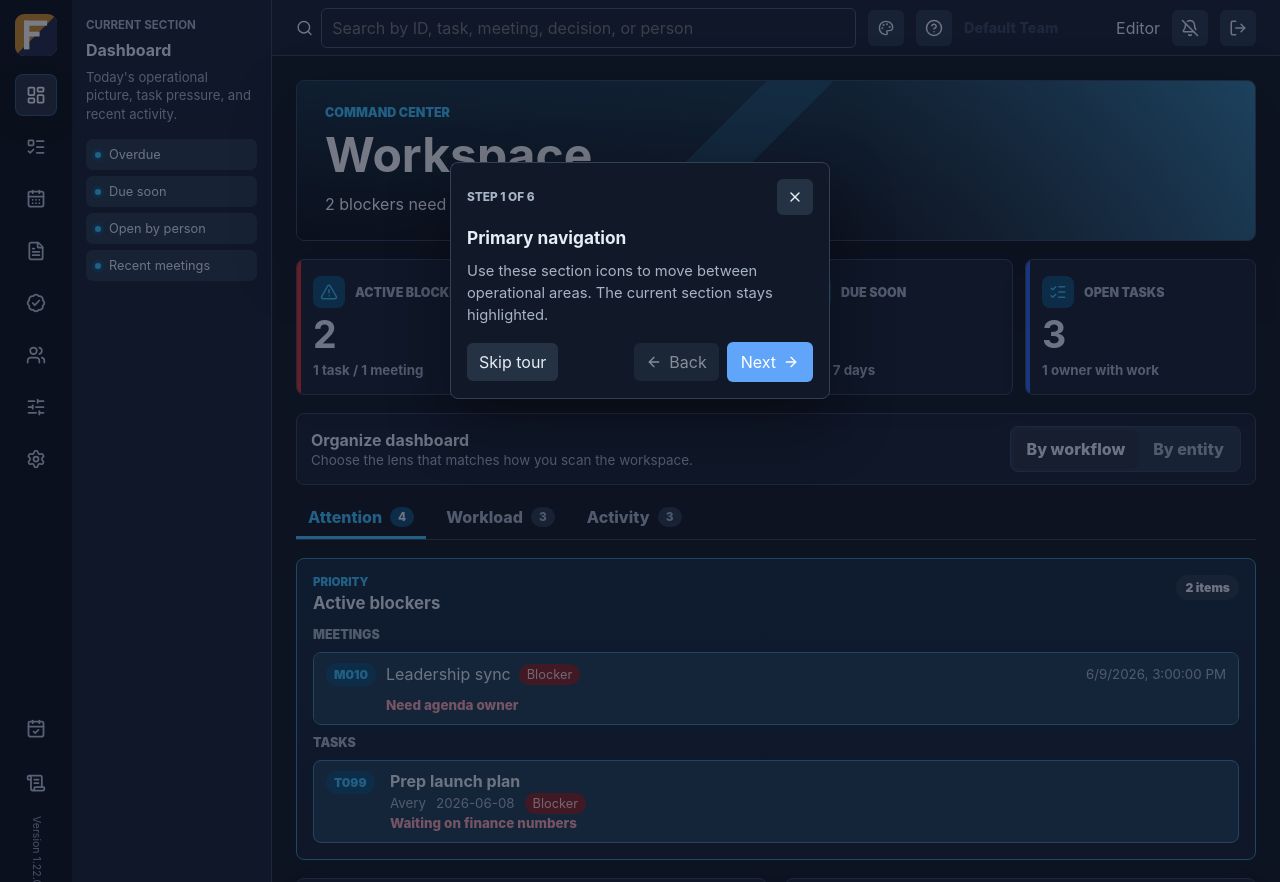
dashboard and workspace flows › persists the dashboard organization and exposes entity tabs
Click the button "By entity": x=1189, y=449 [1141,431,1236,467]
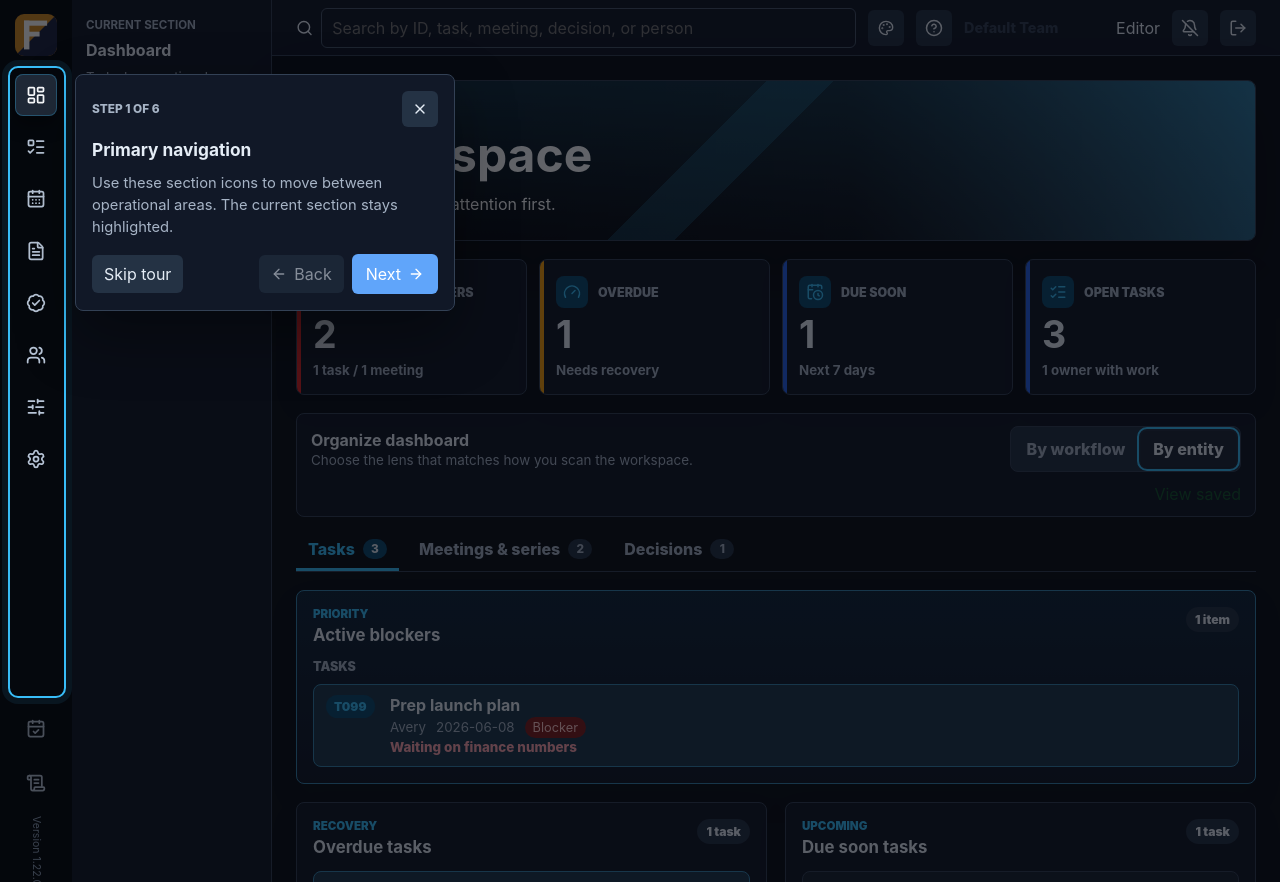
Click the button "Meetings & series 2": x=506, y=550 [407,529,604,571]
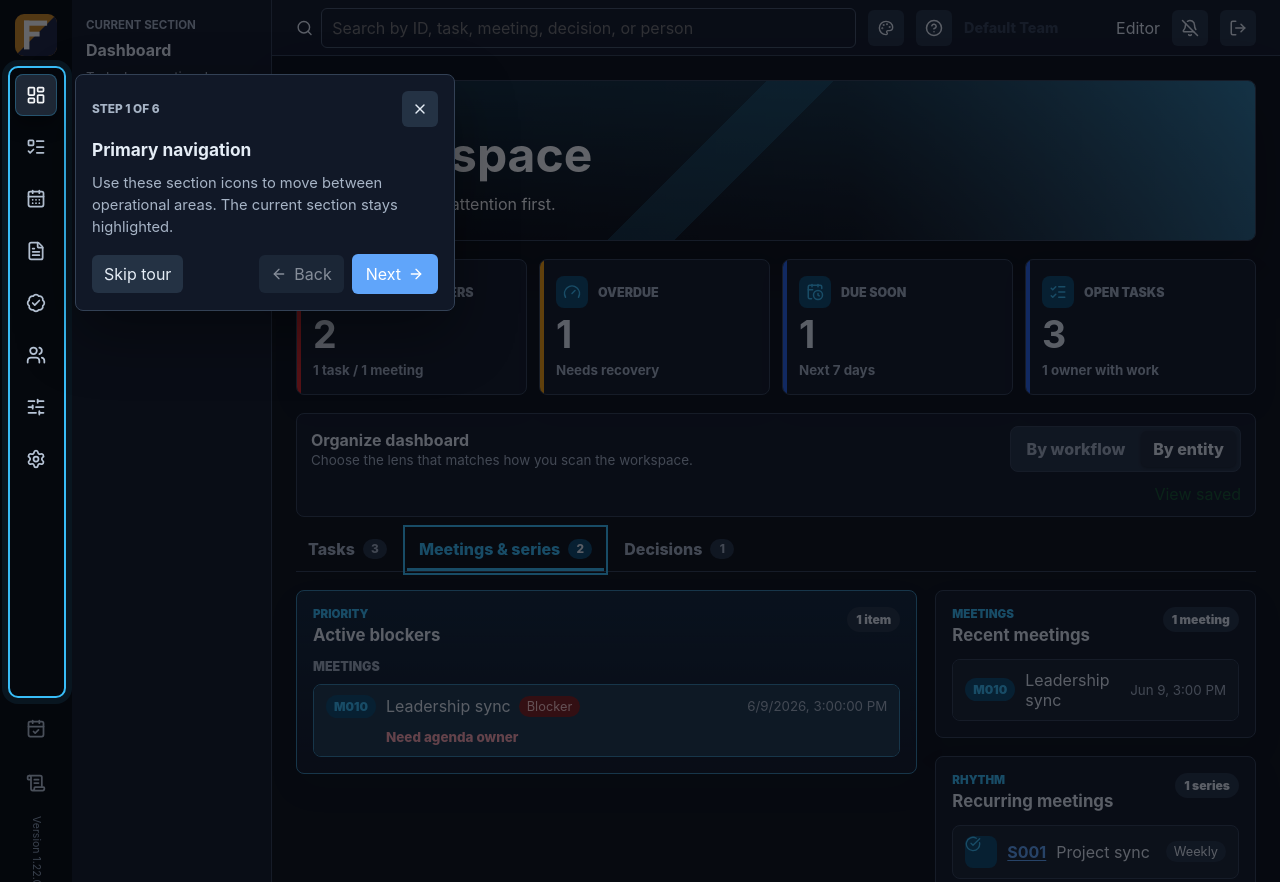
Expected: the text "Project sync" is shown, [1056,842,1156,862]
